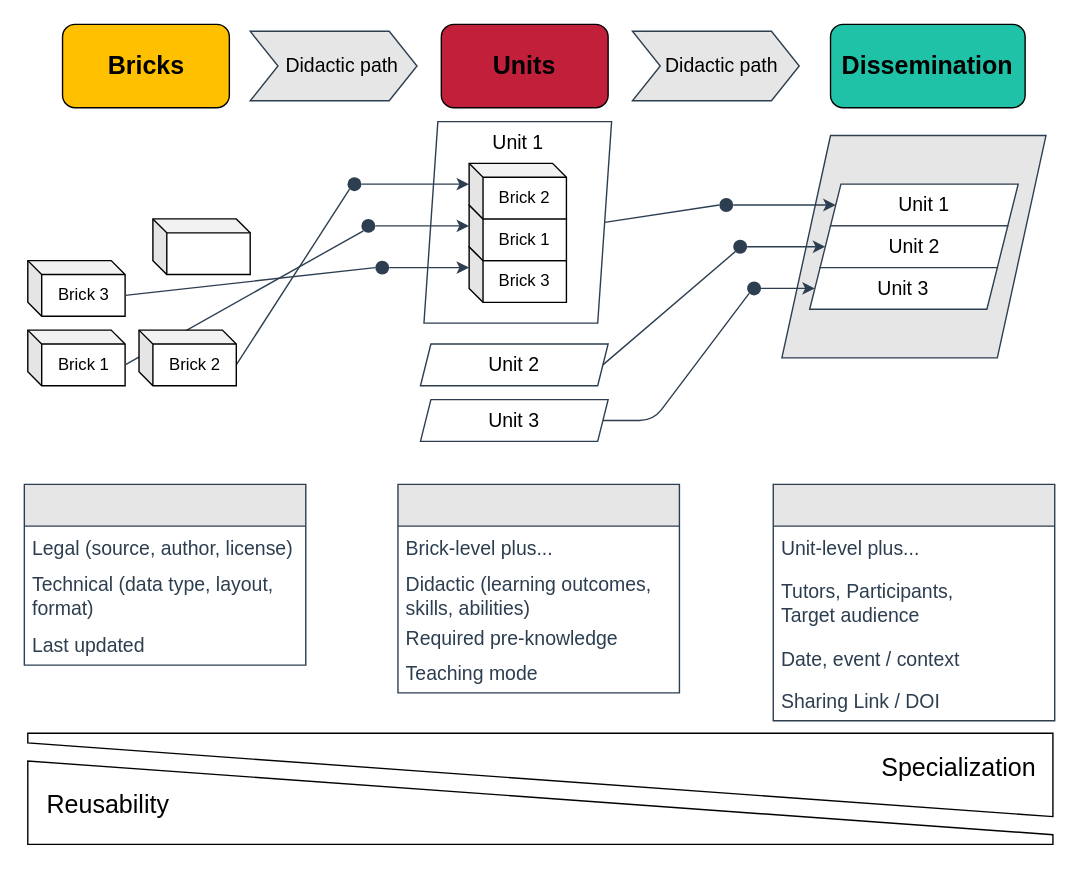
The diagram is 1080 pixels wide and 869 high, and some of its shapes have lost their labels. Each missing label, with the box of its shape:
Brick n: (152, 218, 250, 275)
Brick-level metadata: (23, 483, 306, 665)
Dissemination 1: (780, 134, 1046, 358)
Dissemination-level metadata: (772, 483, 1055, 721)
Unit-level metadata: (397, 483, 679, 693)
